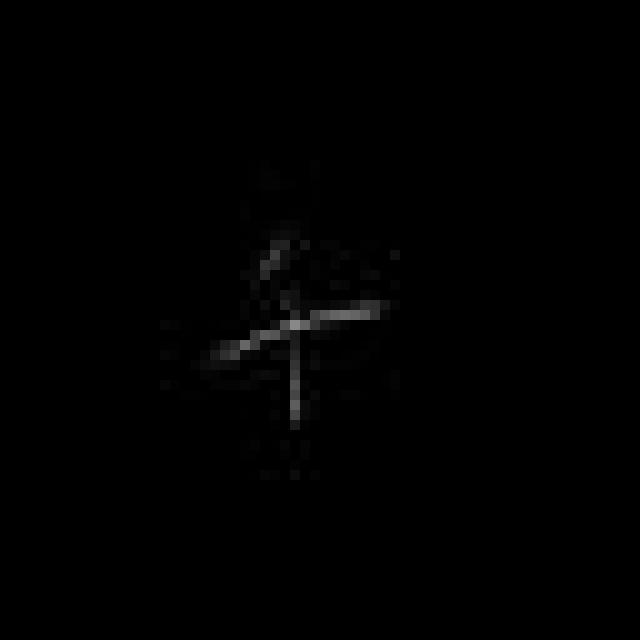1000 -a thousand-: (200, 227, 393, 428)
